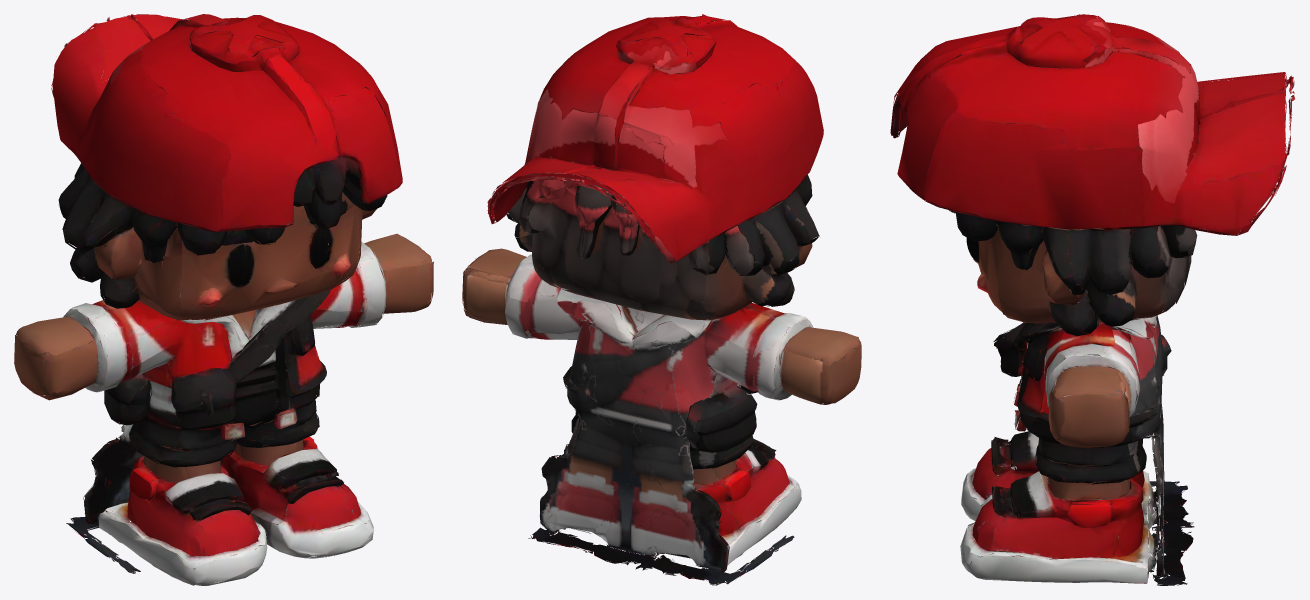
The model's file is ace_trellis_v2.glb.
3 views of the same model, side by side, from view 1: azimuth 30°, elevation 25°; view 2: azimuth 150°, elevation 25°; view 3: azimuth 270°, elevation 25° (orthographic). The views are drawn at different scales.
Parts seen in each view (by area): view 1: Body; view 2: Body; view 3: Body.
Boxes of the visible parts, x1=… form: Body: x1=14, y1=14, x2=433, y2=585; Body: x1=462, y1=14, x2=861, y2=585; Body: x1=890, y1=14, x2=1294, y2=585.
Bounding box in the file's own units: 0.5838 × 0.72 × 0.5088.
Materials: 1 (1 with a texture image).
